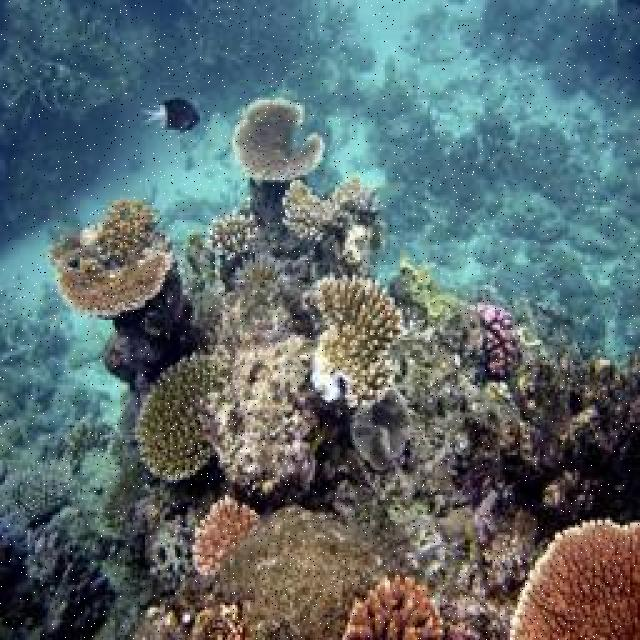fish: (135, 96, 203, 135)
reefs: (47, 198, 174, 318), (510, 519, 638, 638), (310, 272, 406, 399), (136, 355, 216, 481), (232, 98, 325, 180), (343, 572, 444, 637), (191, 495, 261, 577)
